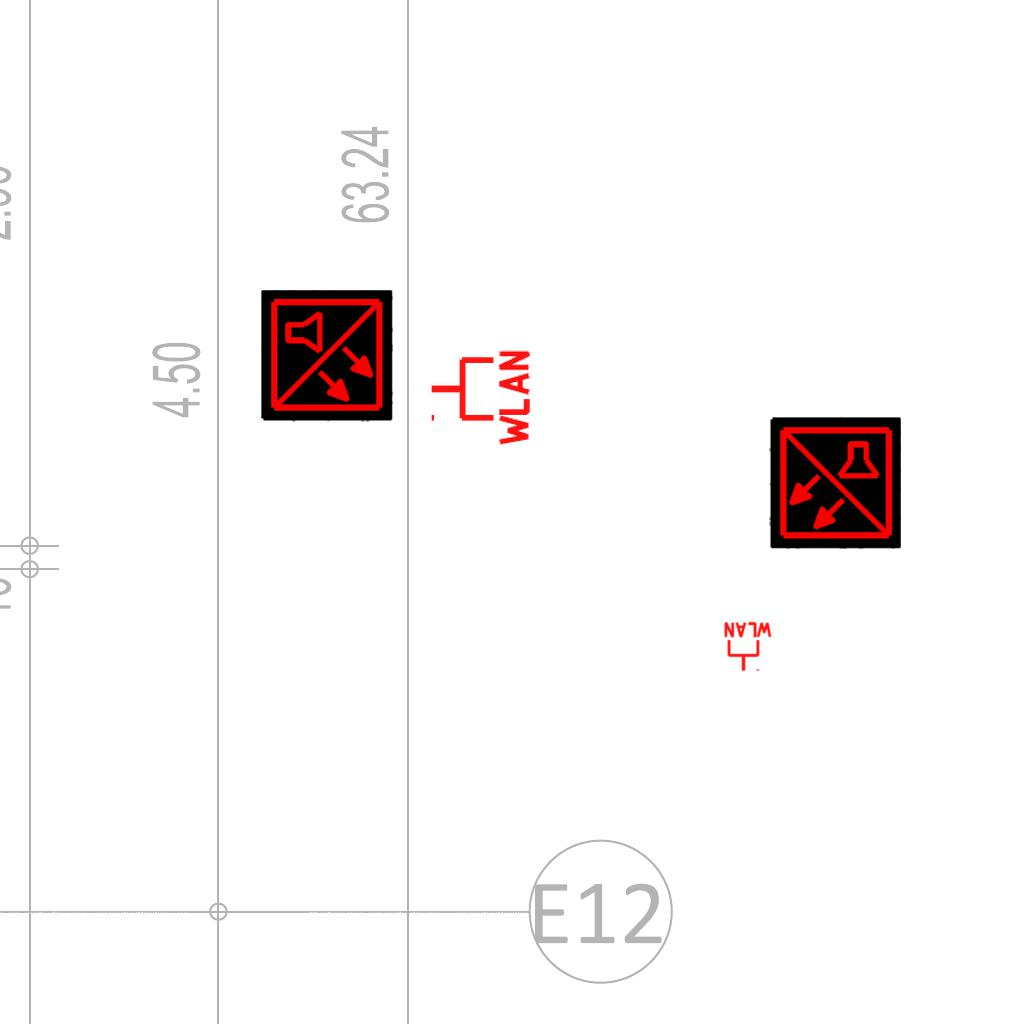OKW_Multisensormelder_(Kombination_optischer_Rauch-Kahlenmonoxid_Waerme-Melder): (261, 290, 393, 422), (769, 417, 901, 549)
WLAN: (427, 346, 532, 450), (722, 621, 774, 673)
